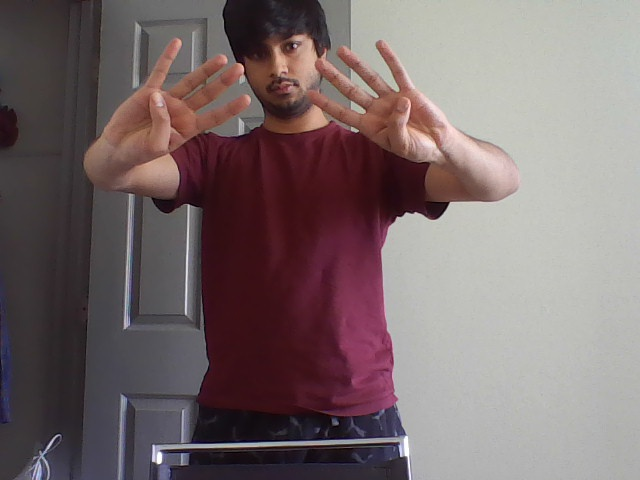four: (301, 36, 444, 112), (145, 33, 254, 132)
